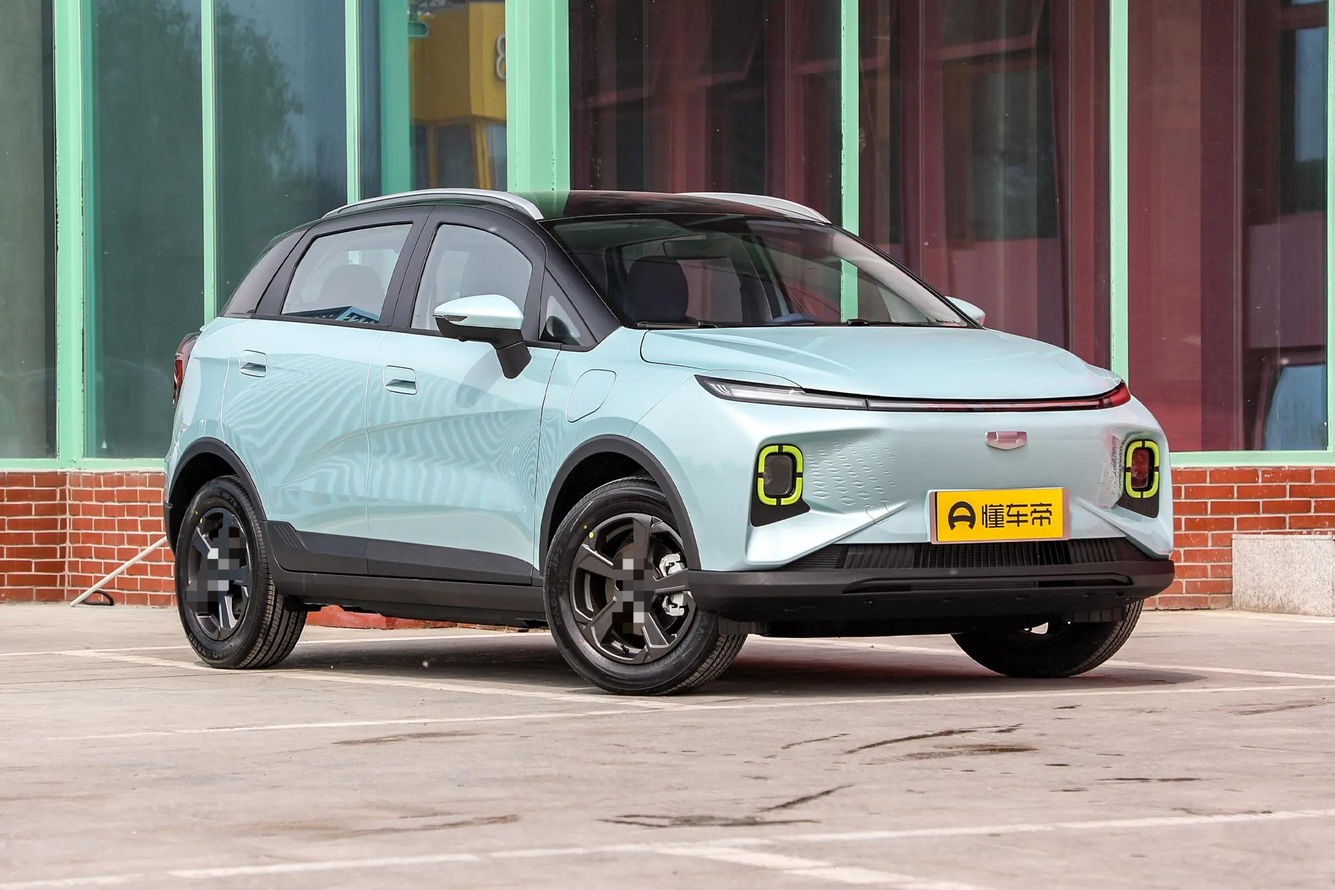GEOMETRY: (985, 432, 1027, 449)
